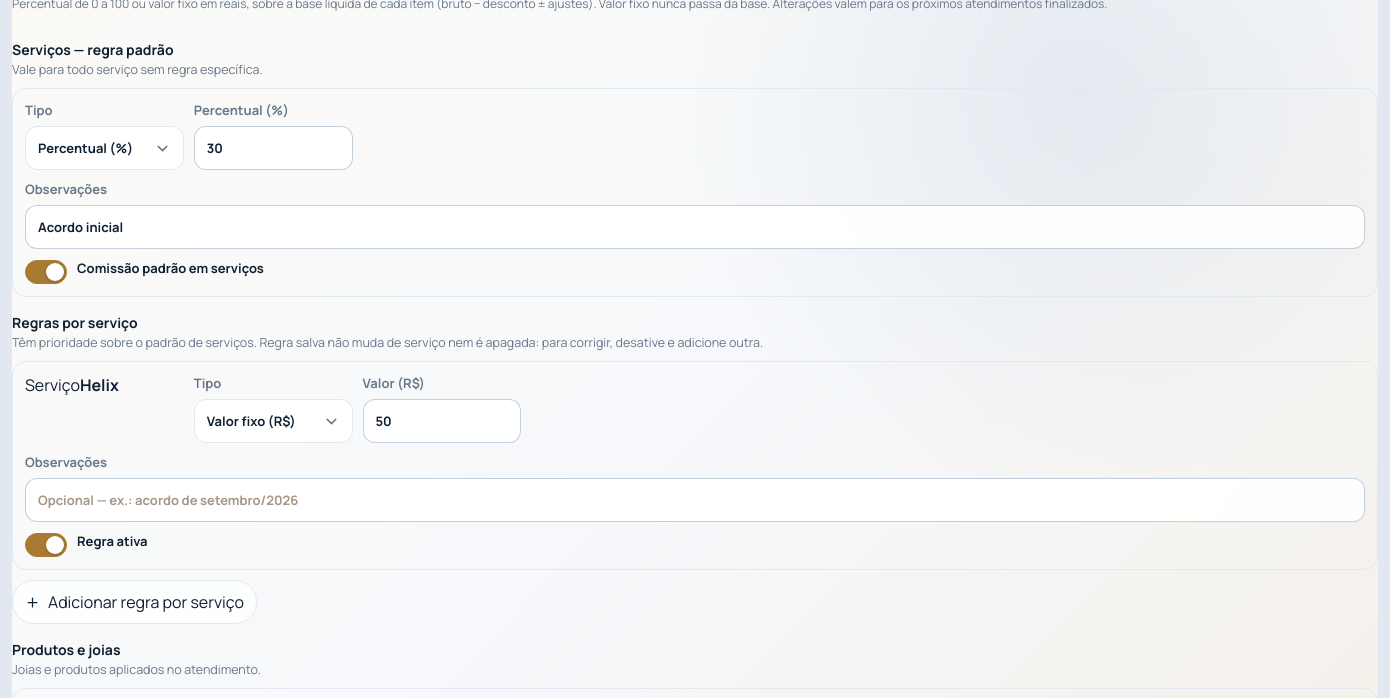
Test case: regras de comissão do profissional › envia o PUT no formato da SPEC, com todas as regras existentes
The image size is (1390, 698).
Replace the text in the field named "Percentual (%) — padrão de serviços" with "12,5": (273, 148) [194,126,353,170]
Click the button "Adicionar regra por serviço": (134, 602) [12,580,257,624]
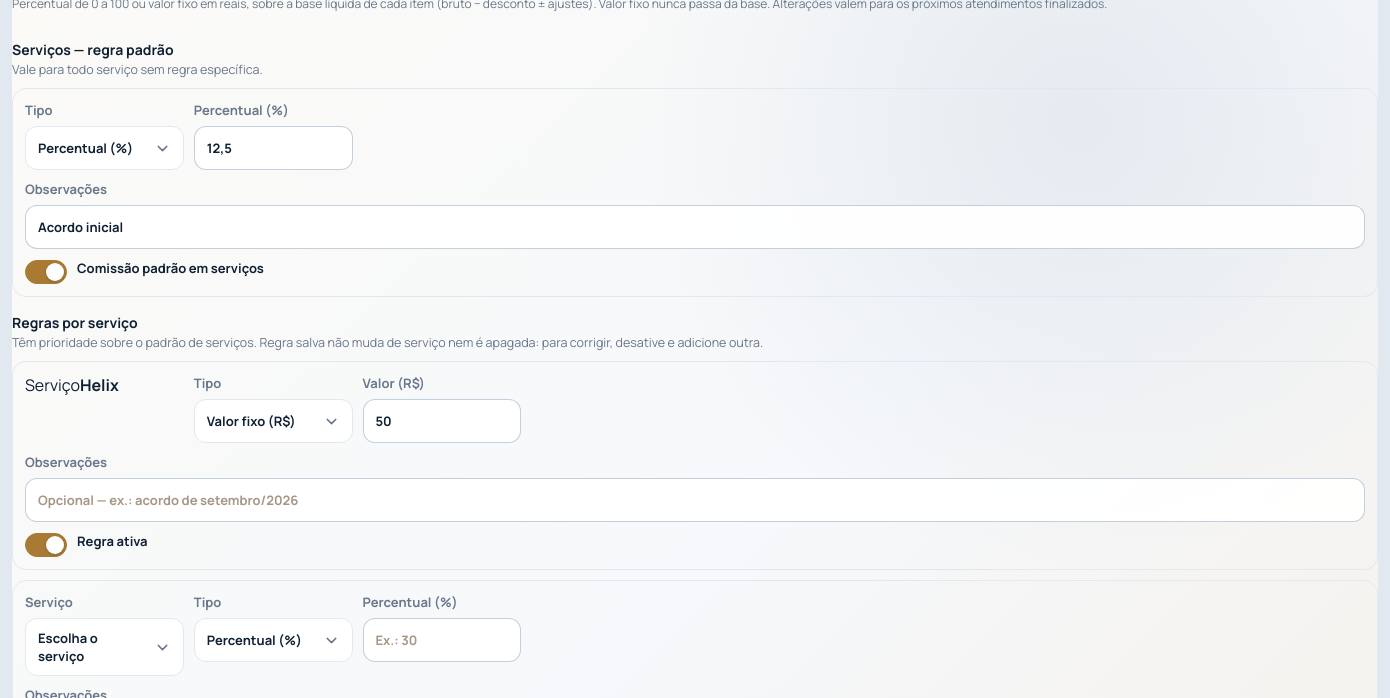
Click the dropdown named "Serviço da regra 2": (104, 647) [25,618,184,676]
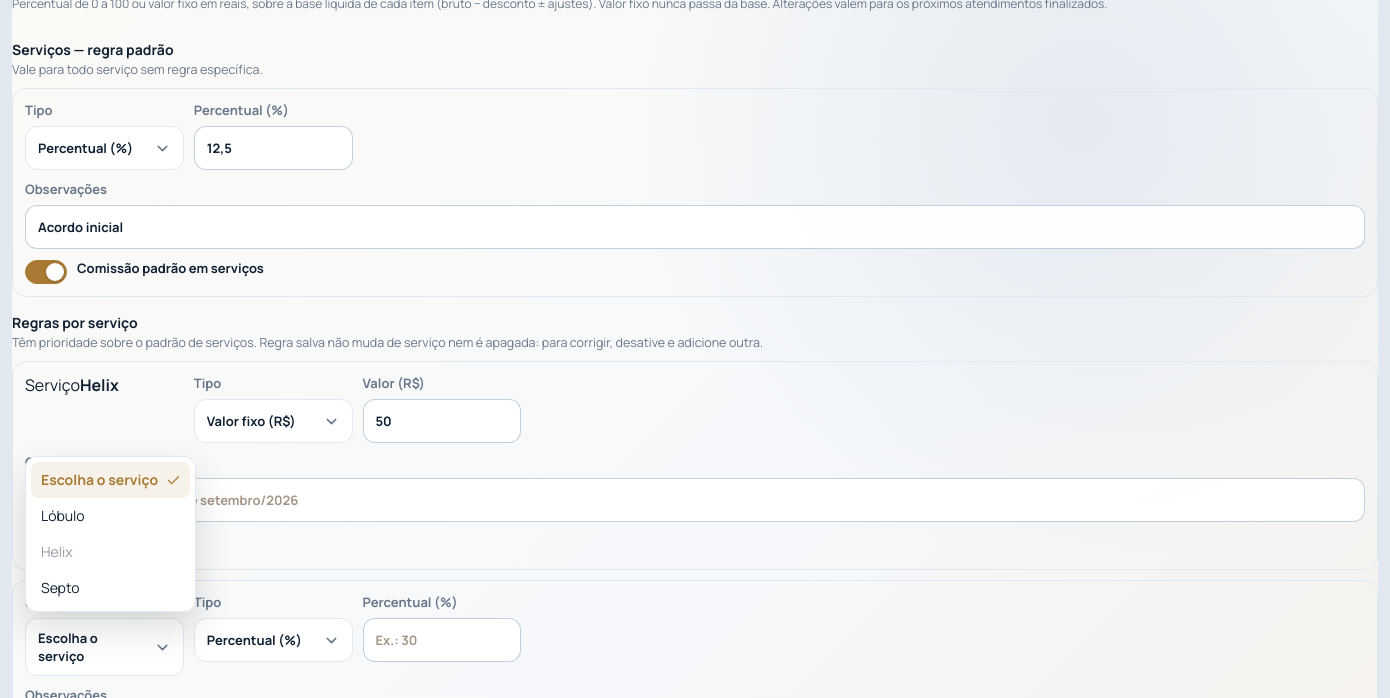
Click the option "Lóbulo": (63, 516) [41,506,85,525]
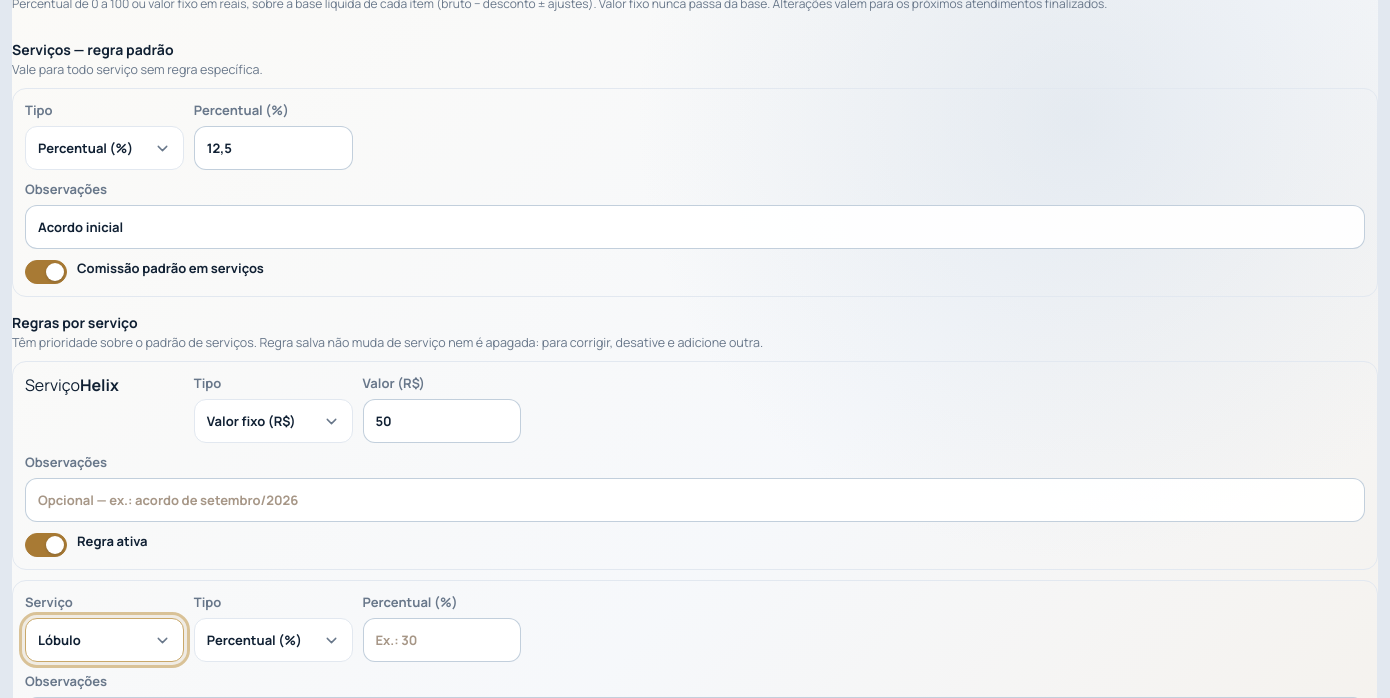
In the field named "Percentual (%) da regra 2": (442, 640) [362,618,521,662], type "40"
(page scrolled)
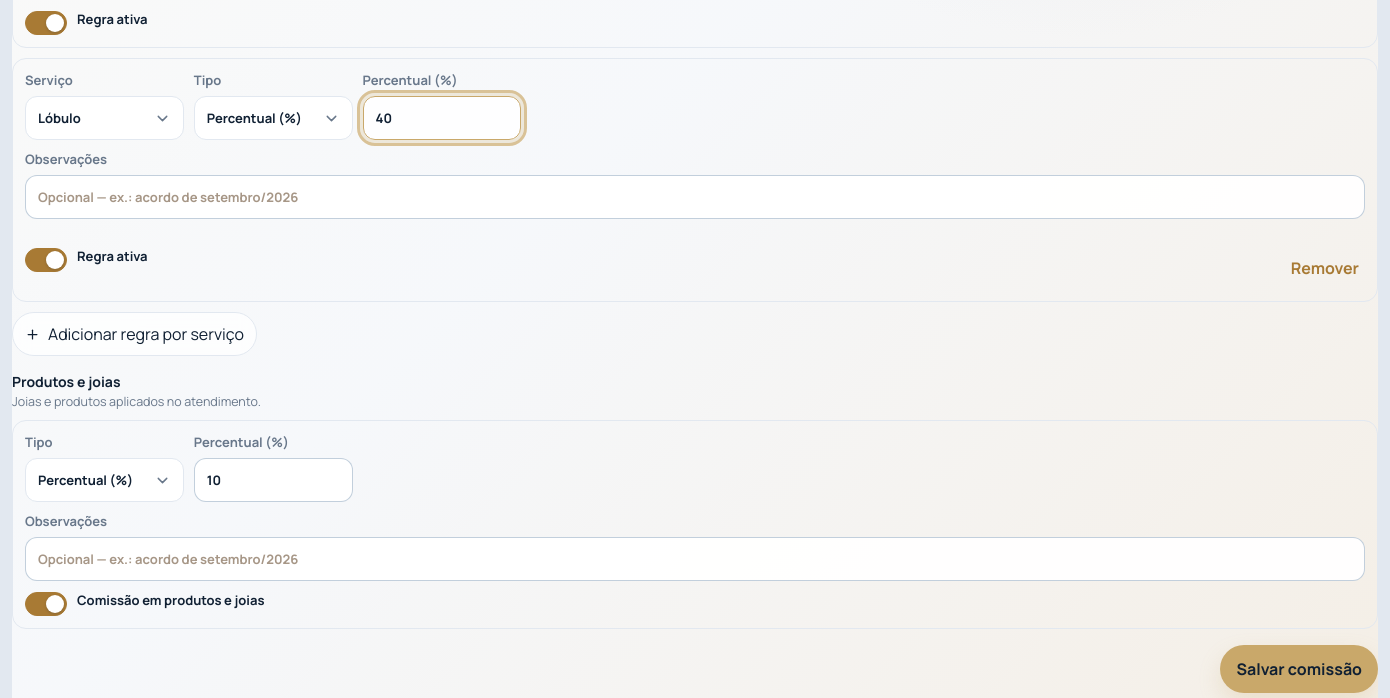
// Desativar o padrão de produtos envia active:false (não some do conjunto).
Click the switch named "Comissão em produtos e joias": (46, 604) [25,592,67,616]
(page scrolled)
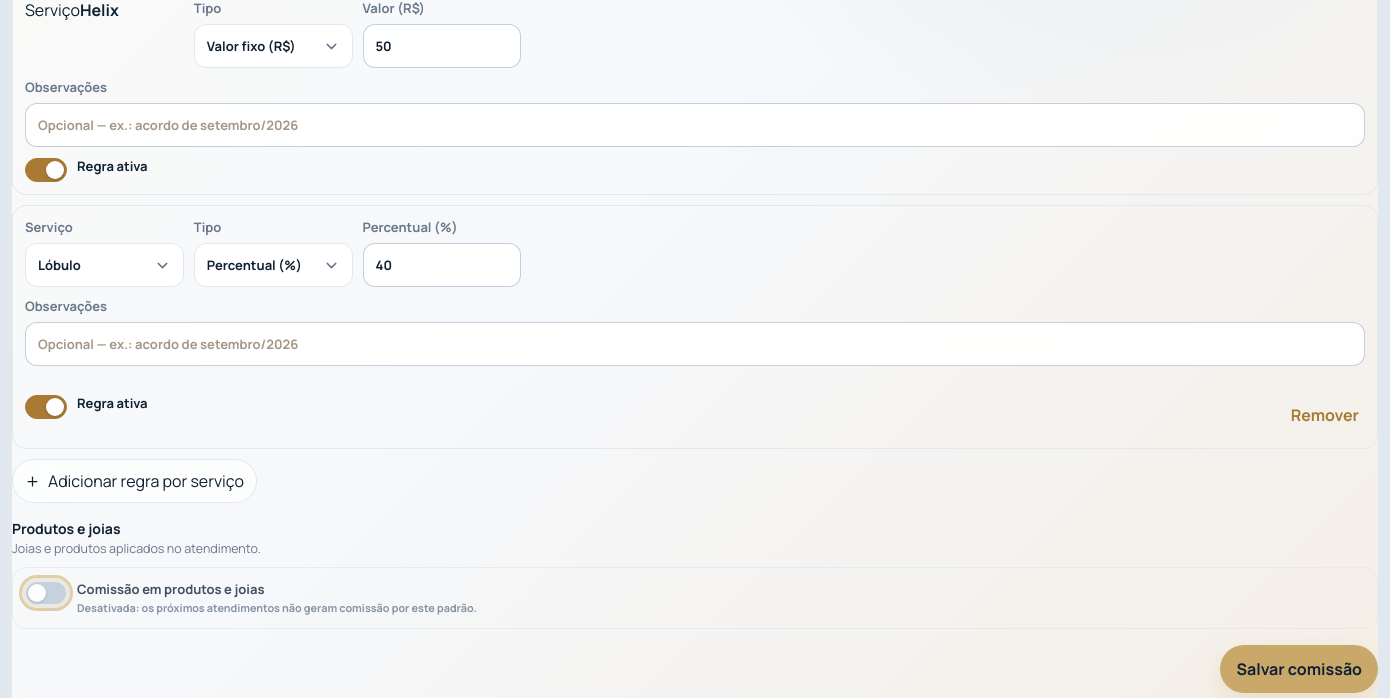
Click the button "Salvar comissão": (1299, 668) [1220,644,1378,692]
(page scrolled)
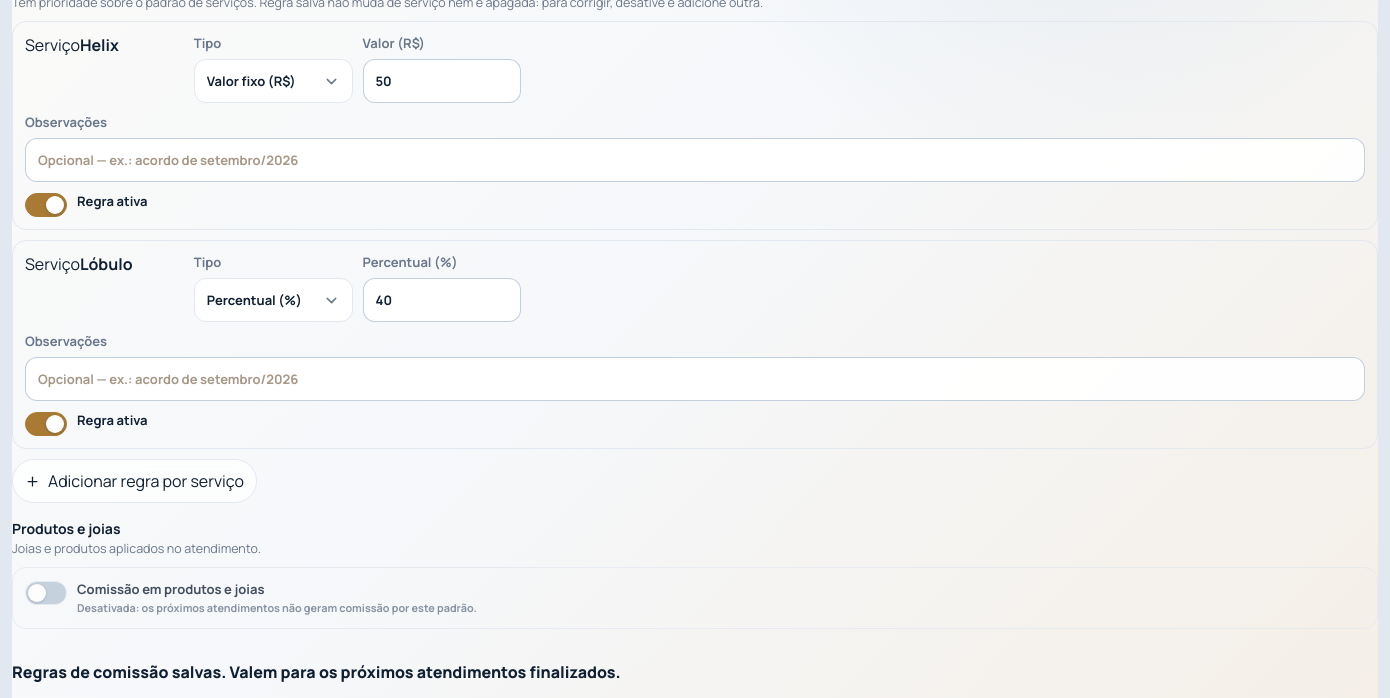
Now the text "Regras de comissão salvas. Valem para os próximos atendimentos finalizados." is shown, box [12,660,621,682]
